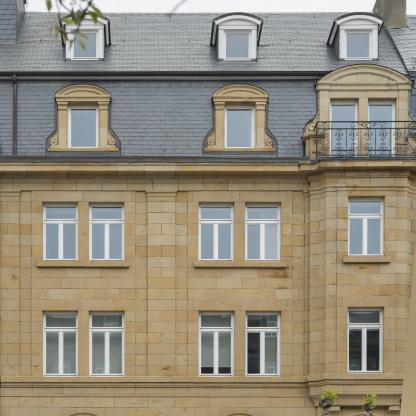Balcony: (317, 122, 415, 158)
Building Outline: (0, 0, 416, 416)
Cornice: (316, 64, 414, 91), (213, 84, 269, 102), (55, 84, 111, 102)
Door: (368, 98, 397, 156), (331, 98, 359, 156)
Facade: (0, 0, 416, 416)
Floor: (0, 170, 409, 289), (0, 301, 409, 394), (0, 79, 409, 157)
Floor Slab: (0, 66, 409, 79), (0, 394, 409, 406), (0, 289, 409, 301), (0, 157, 409, 169)
Molding: (0, 373, 403, 397)
Pillar: (145, 190, 177, 376), (0, 189, 21, 376)
Roof: (0, 0, 416, 163)
Sill: (37, 261, 130, 266), (194, 261, 287, 266), (343, 256, 392, 262)
Top Floor: (0, 12, 409, 67)
Window: (43, 311, 79, 377), (199, 311, 235, 377), (348, 307, 384, 373), (90, 311, 125, 377), (246, 311, 281, 377), (349, 196, 385, 256), (89, 202, 124, 261), (43, 202, 78, 261), (246, 202, 281, 261), (199, 202, 234, 261), (68, 106, 98, 148), (225, 106, 255, 148), (345, 29, 373, 60), (71, 29, 99, 60), (224, 29, 252, 60)
